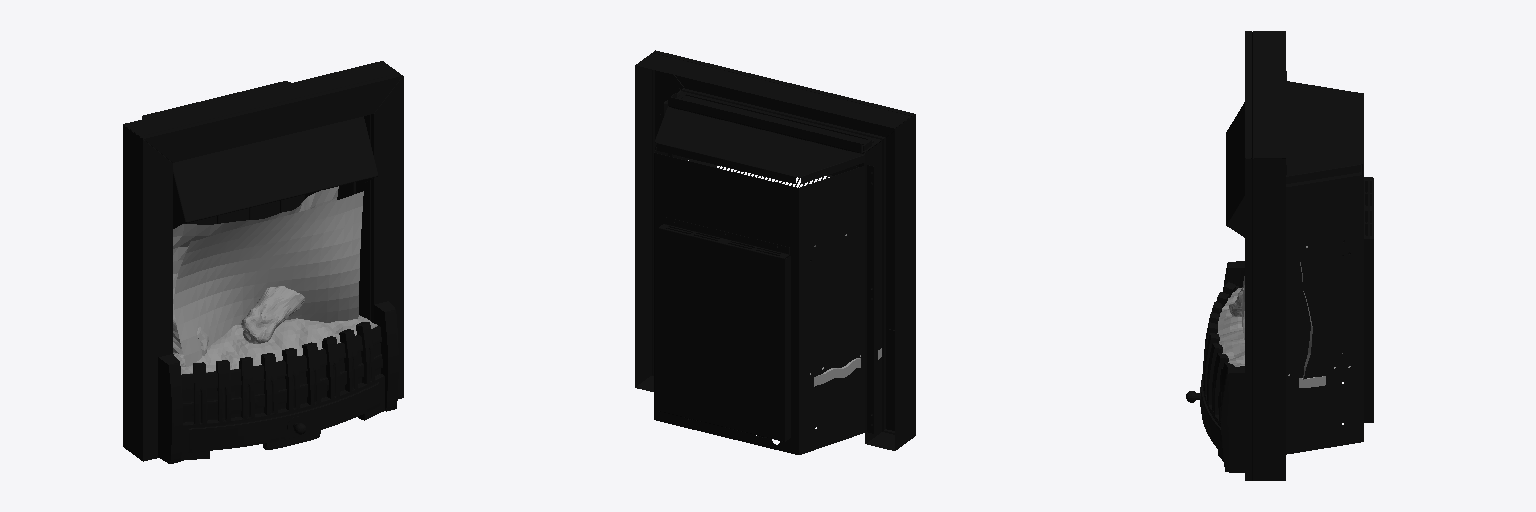
File: Danville.obj
3 renders of one model, left to right at view 1: azimuth 30°, elevation 25°; view 2: azimuth 150°, elevation 25°; view 3: azimuth 270°, elevation 25°, orthographic.
Visible parts, largest first — view 1: Plane05, Plane13, Plane10, ____MSBR134, Plane02, Box01, Plane34, ____MSBR89, ____MSBR75; view 2: ____MSBR72, Plane05, ____MSBR110, ____MSBR75, ____MSBR112, Plane02; view 3: ____MSBR72, Plane05, ____MSBR75, Plane13, ____MSBR110, ____MSBR134, Plane02.
Part boxes in pixels (bbox=[...]): Plane05: bbox=[123, 61, 403, 461]; Plane13: bbox=[158, 301, 398, 463]; Plane10: bbox=[174, 191, 363, 366]; ____MSBR134: bbox=[173, 116, 377, 228]; Plane02: bbox=[173, 315, 377, 374]; Box01: bbox=[241, 286, 304, 343]; Plane34: bbox=[173, 186, 338, 313]; ____MSBR89: bbox=[186, 195, 304, 224]; ____MSBR75: bbox=[142, 81, 290, 118]; ____MSBR72: bbox=[654, 114, 874, 454]; Plane05: bbox=[635, 50, 915, 450]; ____MSBR110: bbox=[658, 217, 790, 441]; ____MSBR75: bbox=[655, 106, 865, 183]; ____MSBR112: bbox=[668, 93, 871, 153]; Plane02: bbox=[810, 348, 881, 386]; ____MSBR72: bbox=[1286, 164, 1363, 454]; Plane05: bbox=[1245, 31, 1285, 480]; ____MSBR75: bbox=[1286, 81, 1363, 183]; Plane13: bbox=[1201, 261, 1244, 472]; ____MSBR110: bbox=[1364, 177, 1373, 422]; ____MSBR134: bbox=[1226, 102, 1244, 237]; Plane02: bbox=[1217, 288, 1350, 387].
Bounding box in the file's own units: 20.79 × 24.61 × 12.99.